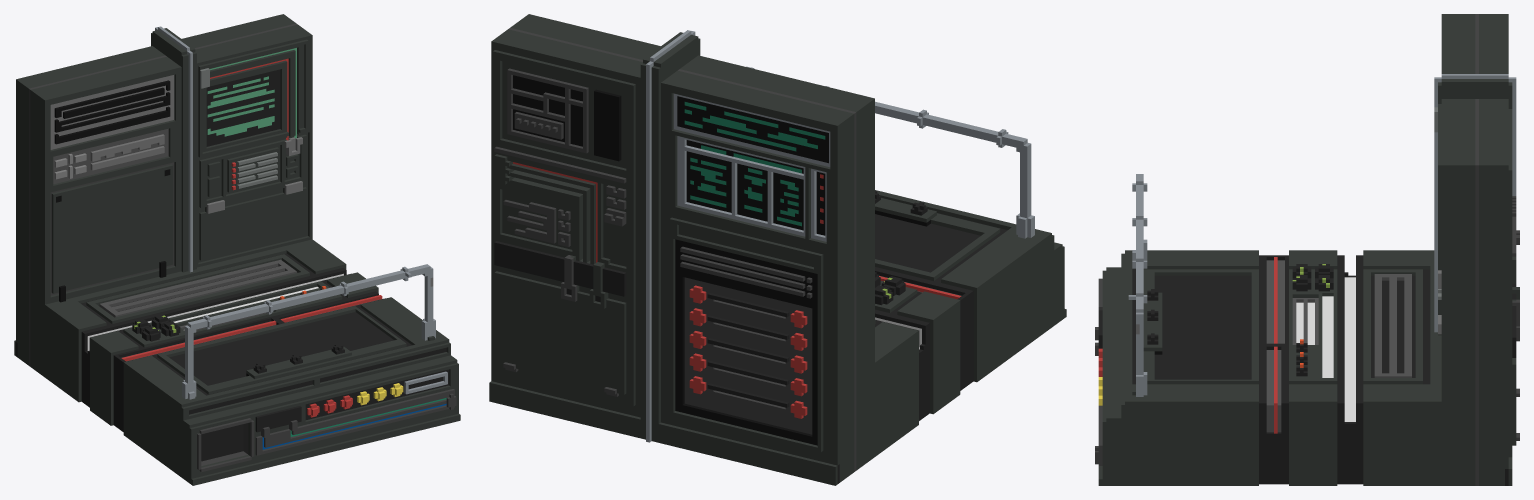
The model's file is Filler_0.obj.
3 views of the same model, side by side, from view 1: azimuth 30°, elevation 25°; view 2: azimuth 150°, elevation 25°; view 3: azimuth 270°, elevation 25° (orthographic). The views are drawn at different scales.
Bounding box in the file's own units: 96 × 101 × 114.
